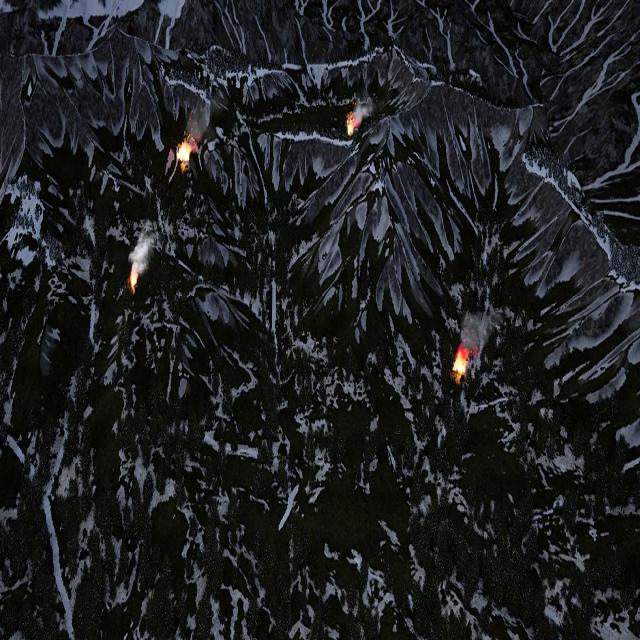fire: (176, 142, 192, 166), (454, 350, 468, 376), (348, 114, 357, 134), (131, 270, 139, 291)
smoke: (460, 312, 494, 357), (186, 101, 214, 144), (128, 231, 154, 274), (352, 88, 376, 121)
